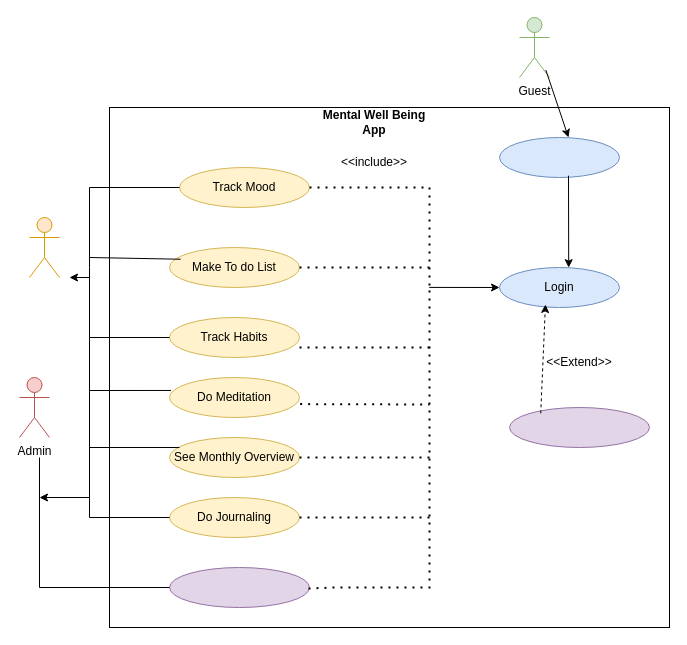
This 687x645 diagram has some shape labels left out. Each missing label, with the centre of its shape:
"Handle Invalid Password" belongs at (x=579, y=427).
"Manage App" belongs at (x=239, y=587).
"Register" belongs at (x=559, y=157).
"User" belongs at (x=44, y=247).
